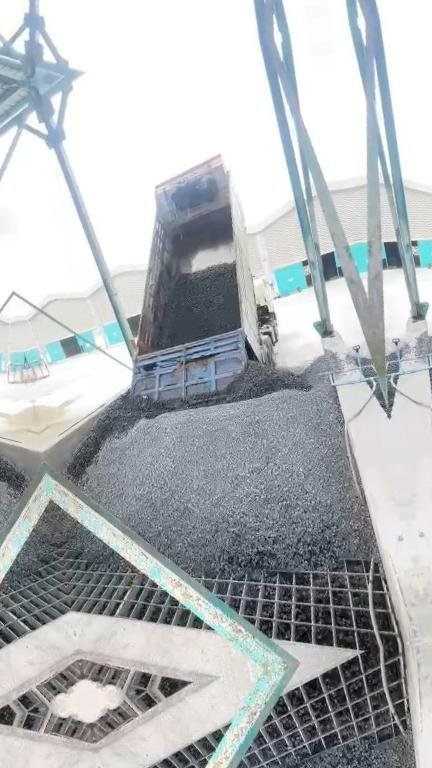gravel: (60, 349, 382, 577), (50, 494, 131, 570), (372, 377, 390, 420)
sand: (34, 398, 96, 451)
